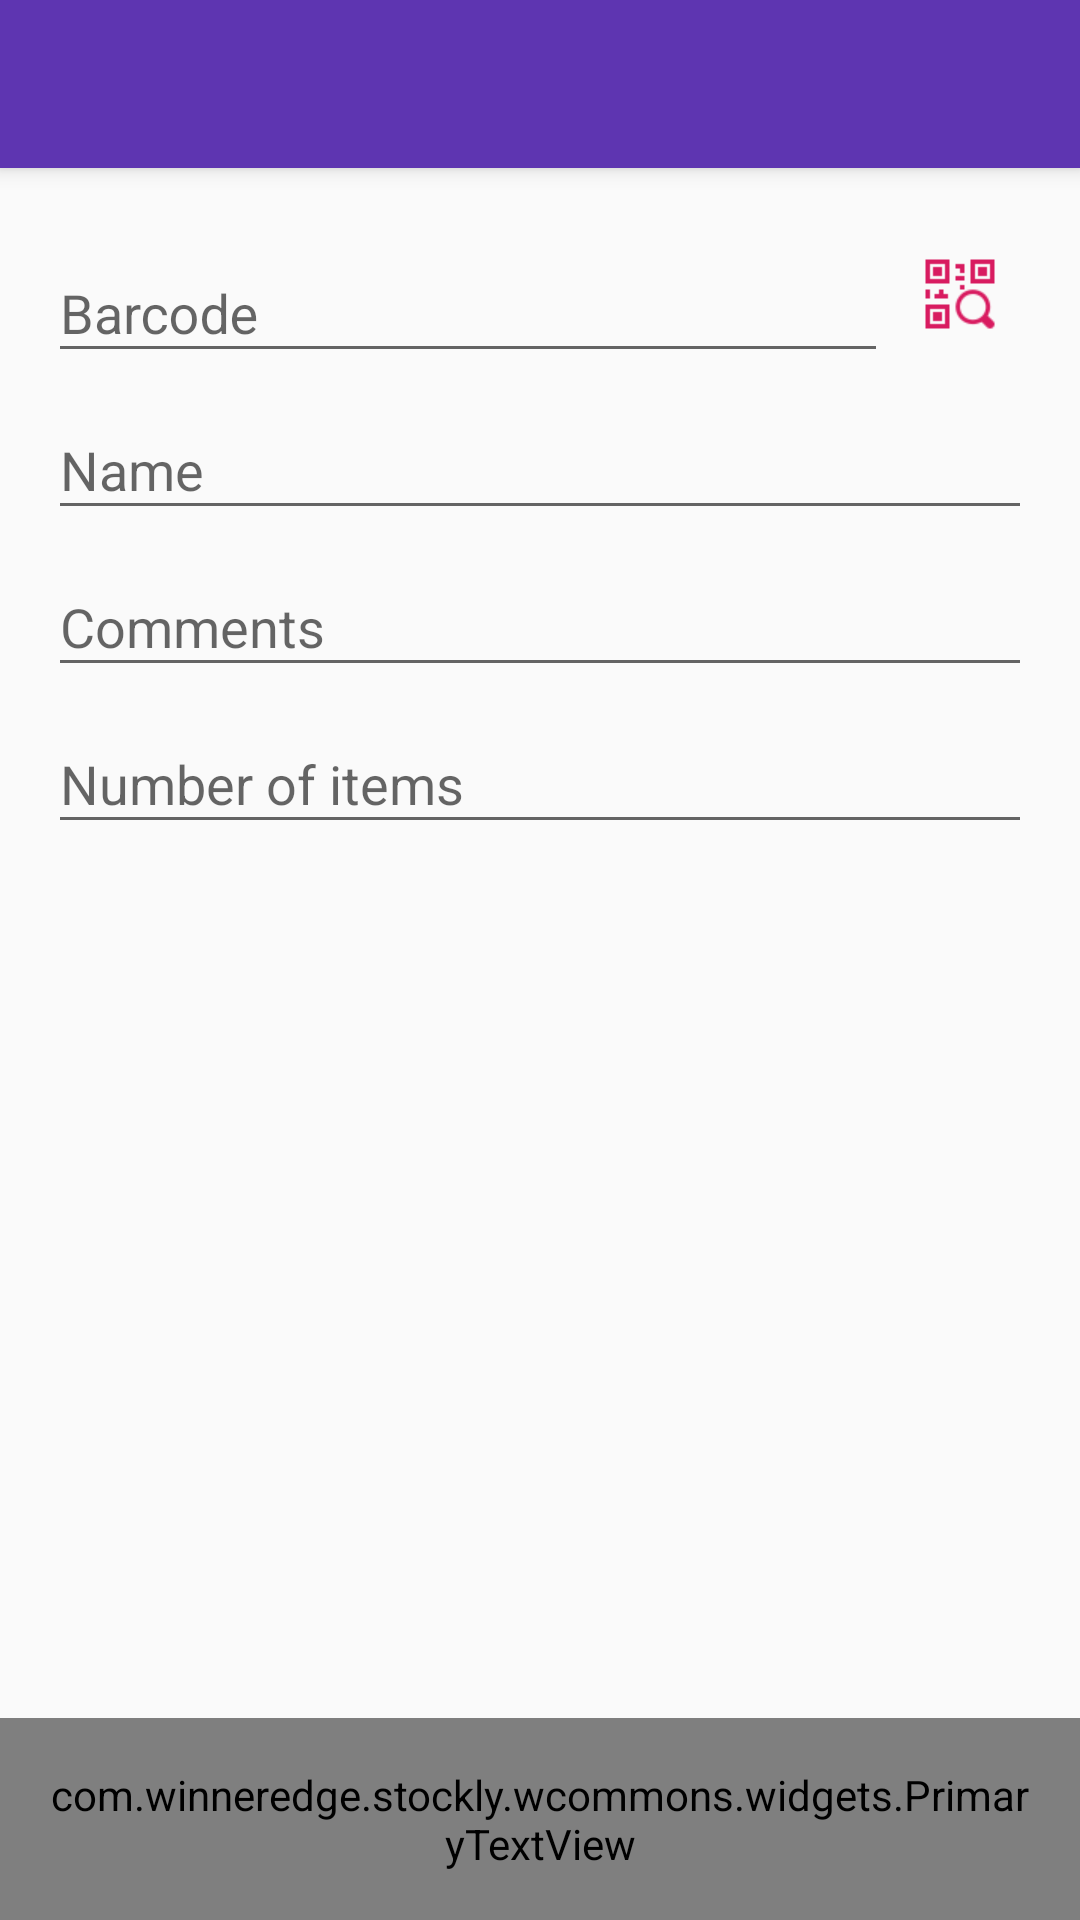

Point at icon controls on the screen. Image size 1080*1920, points as (x,y).
Scan Barcode: (960,294)
